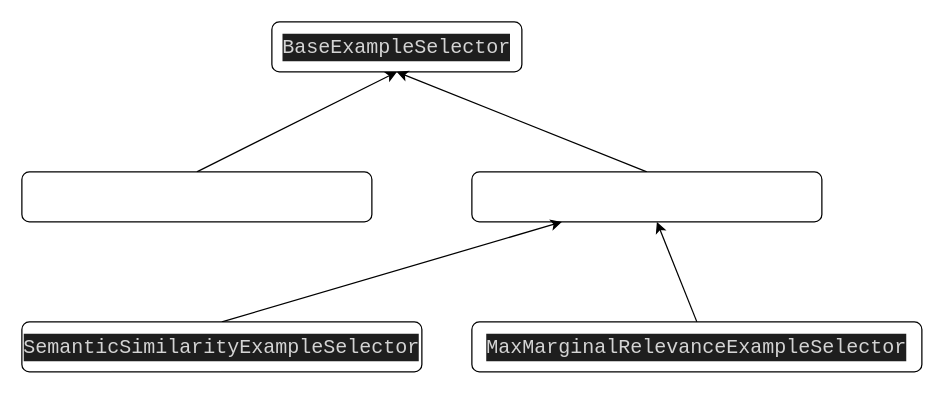
The diagram is 944 pixels wide and 394 high, and some of its shapes have lost their labels. The box of each missing label's shape, as (x1, y1, x2, y2) in pixels:
_VectorStoreExampleSelector: (471, 171, 822, 222)
LengthBasedExampleSelector: (21, 171, 372, 222)
